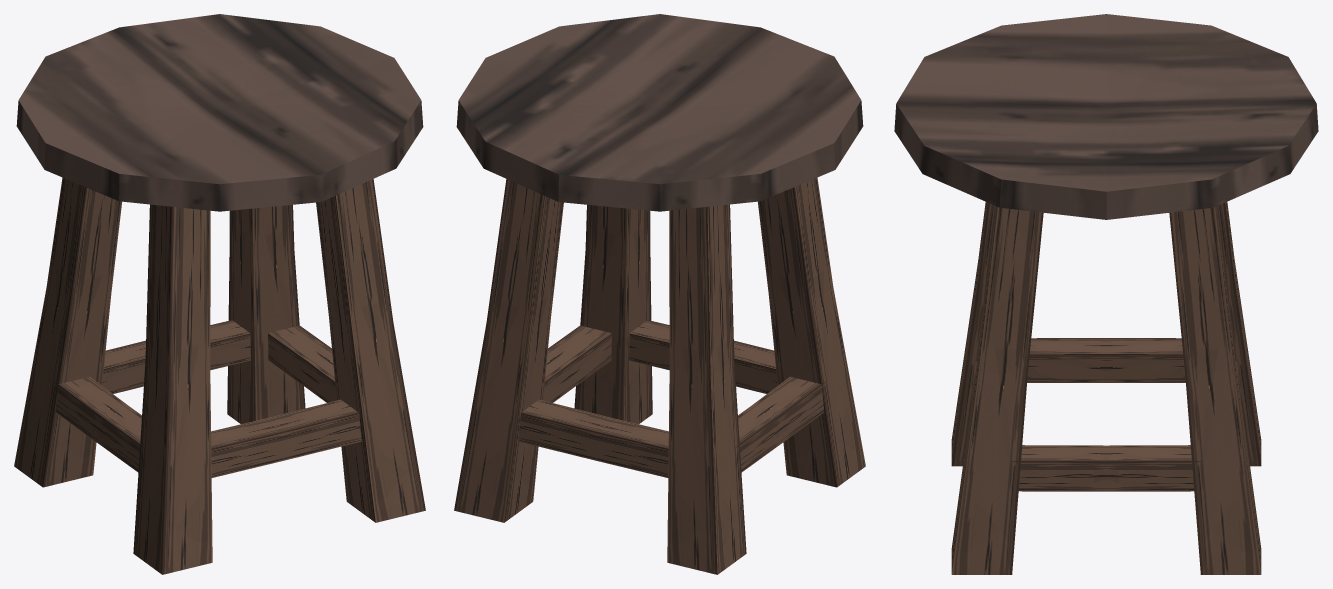
The model's file is furniture_bench_round_01.fbx.
3 renders of one model, left to right at view 1: azimuth 30°, elevation 25°; view 2: azimuth 150°, elevation 25°; view 3: azimuth 270°, elevation 25°, orthographic. The views are drawn at different scales.
Parts seen in each view (by area): view 1: furniture_bench_round_01; view 2: furniture_bench_round_01; view 3: furniture_bench_round_01.
Boxes of the visible parts, x1,y1,x2,y2 form: furniture_bench_round_01: (14,14,425,574); furniture_bench_round_01: (454,14,865,574); furniture_bench_round_01: (894,14,1318,574).
Bounding box in the file's own units: 0.4827 × 0.5119 × 0.4841.
Materials: 1 (1 with a texture image).
